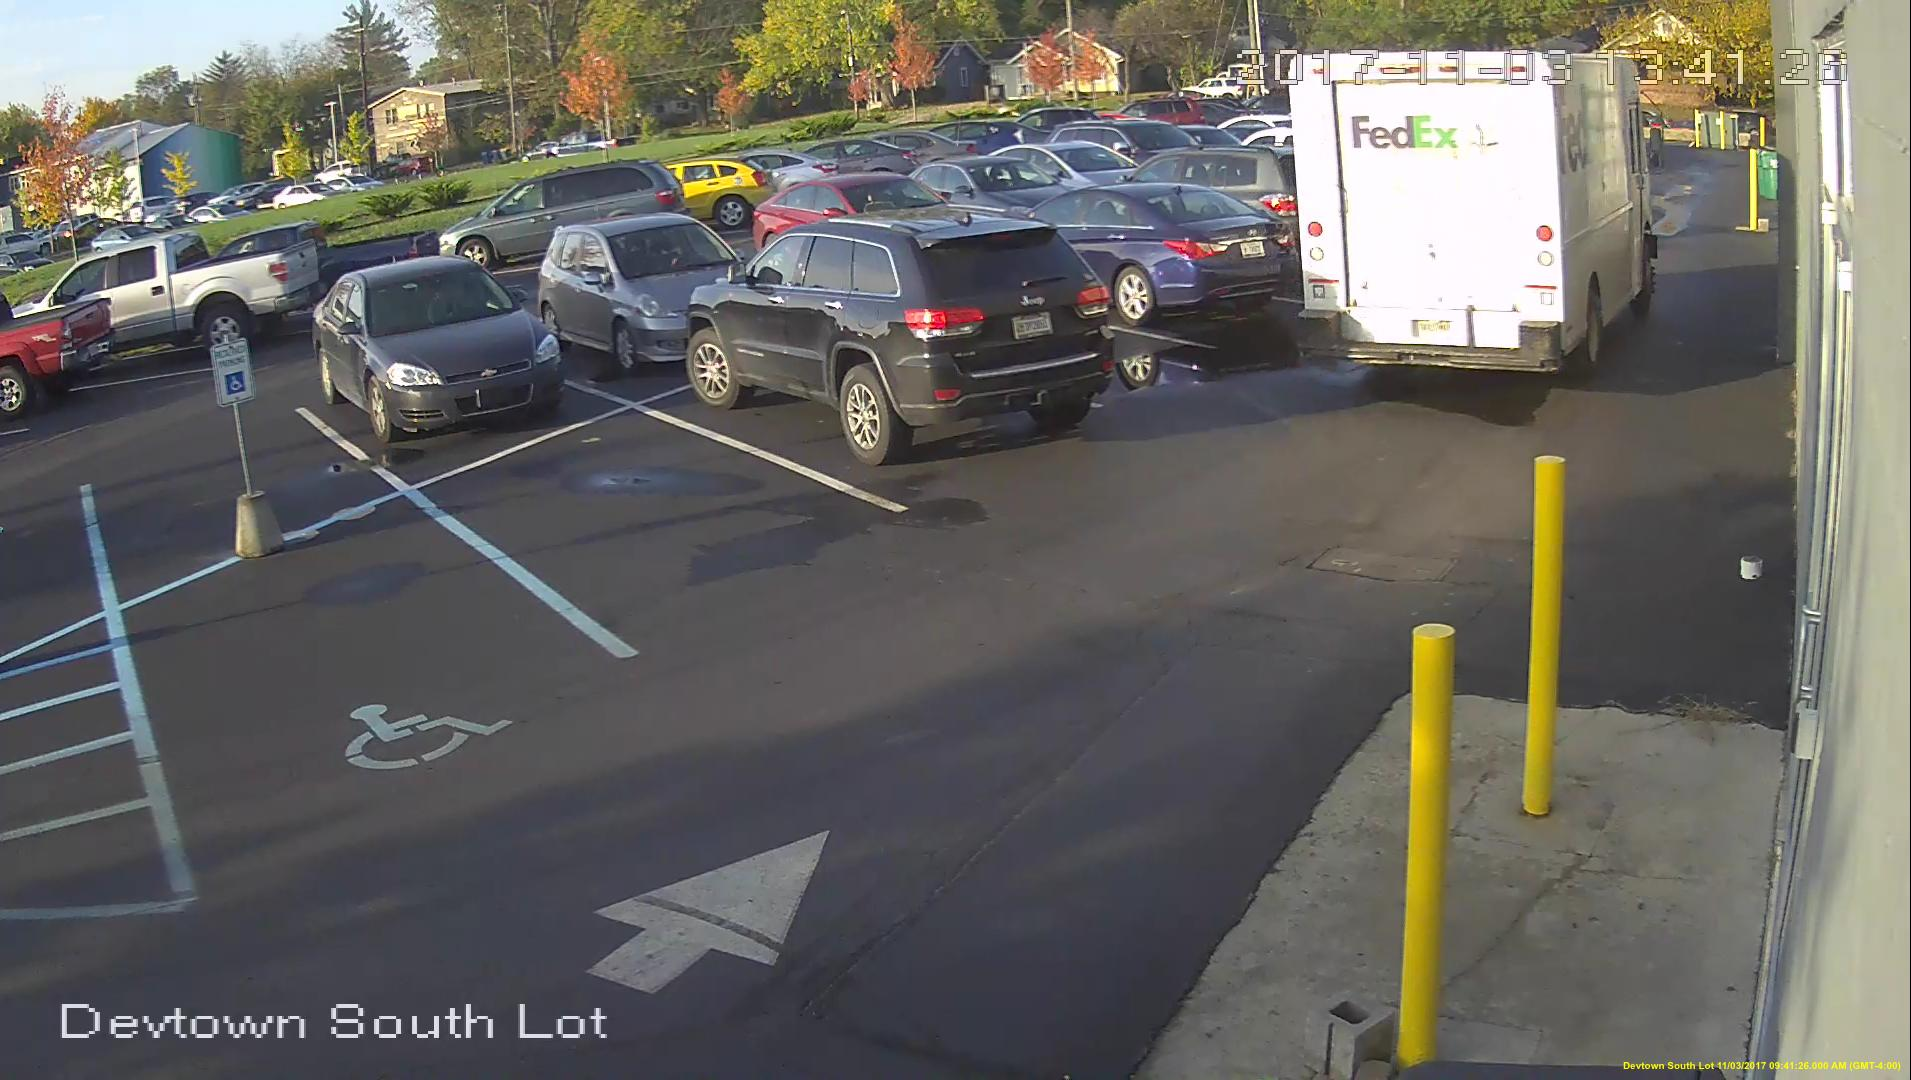fedex_truck: (1282, 45, 1664, 386)
